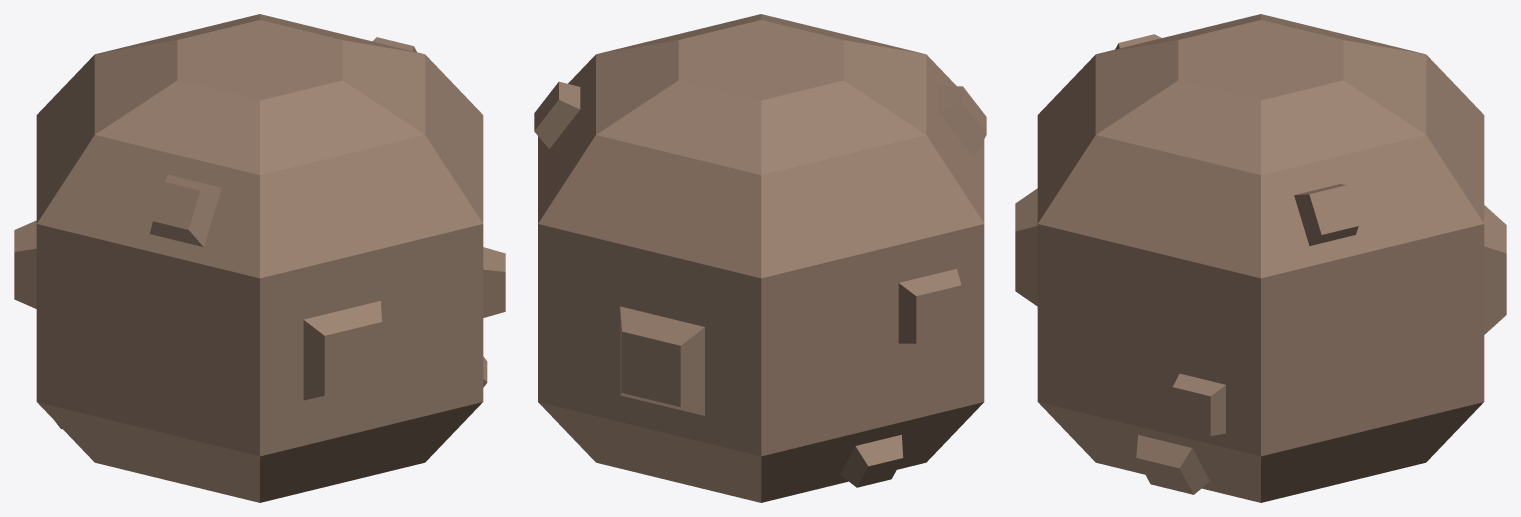
Rendered from asteroid_a.glb.
The picture shows the model from 3 angles, left to right: view 1: azimuth 30°, elevation 25°; view 2: azimuth 150°, elevation 25°; view 3: azimuth 270°, elevation 25°; orthographic projection.
Visible parts, largest first — view 1: asteroid_a; view 2: asteroid_a; view 3: asteroid_a.
Part boxes in pixels (x1,y1,x2,y2): asteroid_a: [14, 14, 505, 502]; asteroid_a: [534, 14, 986, 502]; asteroid_a: [1015, 14, 1506, 502].
Size of the model in its own units: 2 by 1.7 by 1.91.
